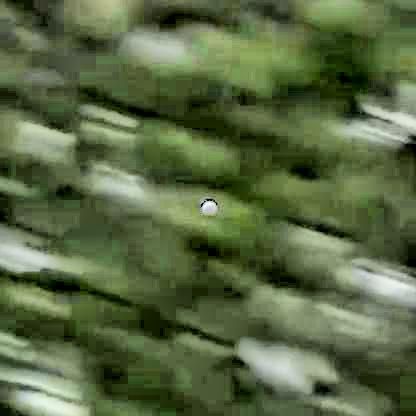golfball: (199, 194, 215, 213)
